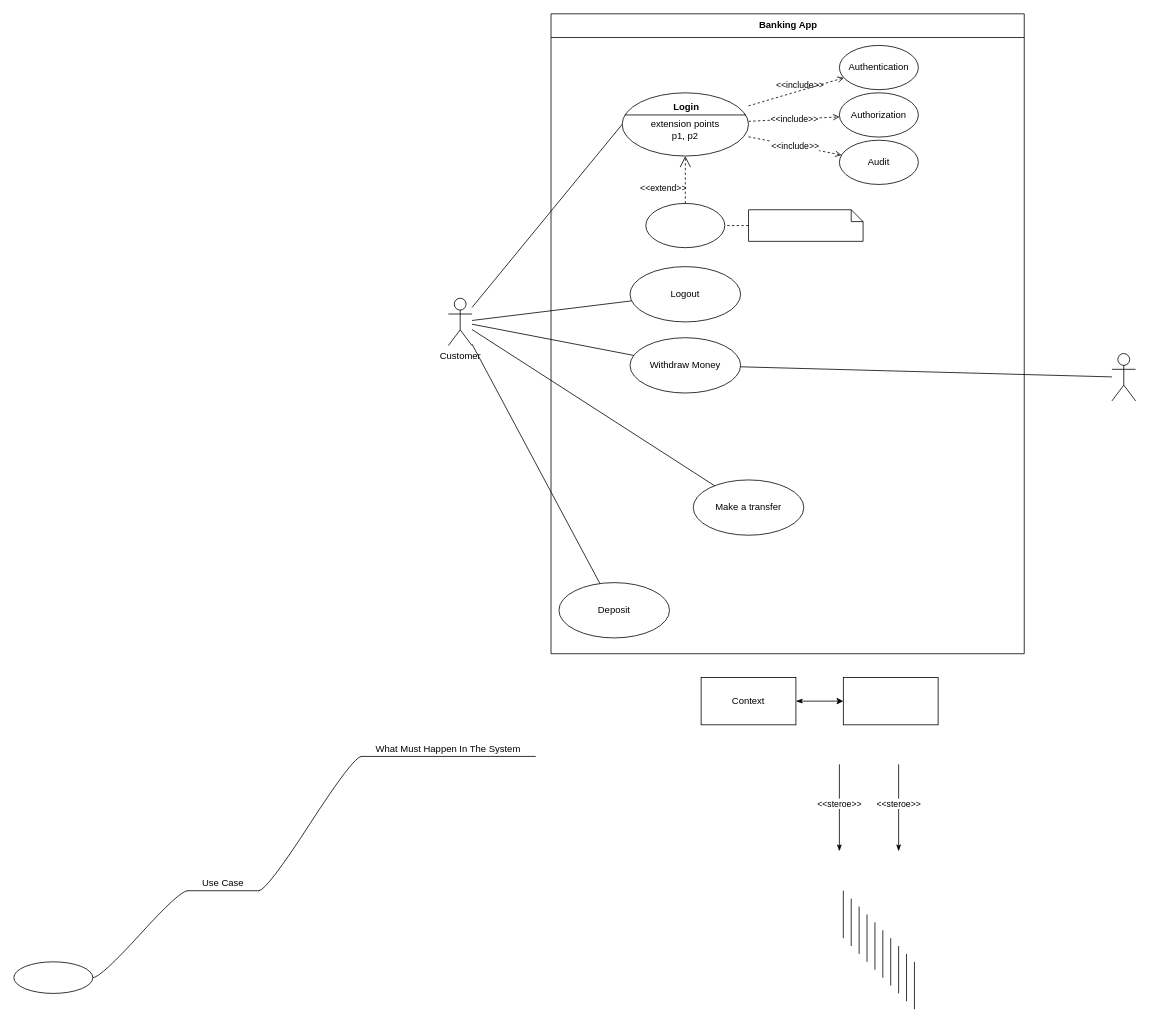
This 1149x1024 diagram has some shape labels left out. The shapes that lost their labels are listed below. From the top down, each one's centre as x and y in pixels, then its label:
(685,225): DisplayError Message
(805,225): Condition: can't login extension point: p1
(1123,377): Bank
(890,701): Component DIagram
(53,977): Diagram
